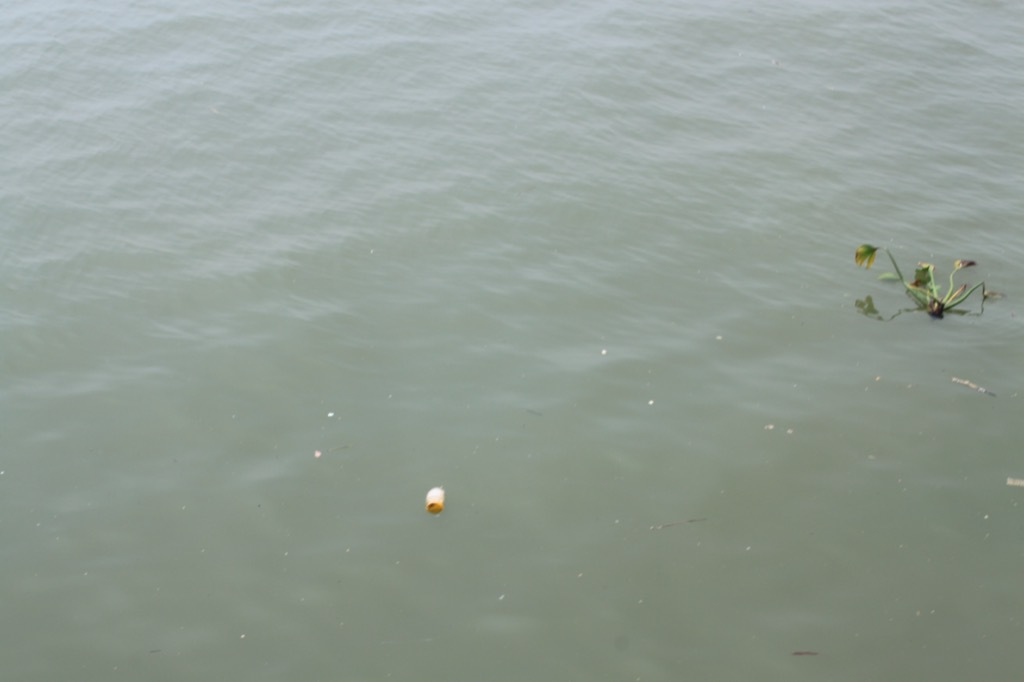organic: (847, 231, 1014, 336), (635, 505, 718, 543), (948, 369, 1004, 401), (790, 641, 823, 667)
plastic: (422, 483, 452, 520), (997, 462, 1024, 495), (308, 446, 323, 462), (643, 395, 658, 410), (598, 342, 608, 359), (324, 405, 335, 420), (714, 333, 726, 344), (238, 630, 248, 642), (344, 545, 354, 555), (497, 592, 507, 601), (283, 549, 290, 558), (395, 557, 402, 566), (1, 470, 5, 477)
